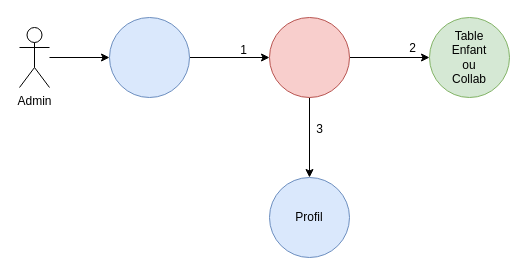
This 527x275 diagram has some shape labels left out. The shapes that lost their labels are listed below. From the top down, each one's box as (x1, y1, x2, y2) in pixels, then its label:
(108, 16, 190, 98): Listes Users
(268, 16, 350, 98): Afficher Profil
